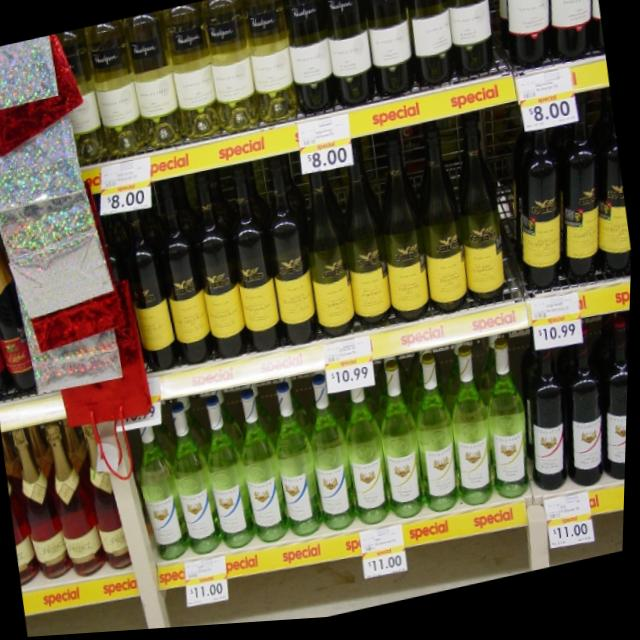q1: (554, 336, 619, 511), (521, 353, 582, 511), (585, 322, 632, 501)
